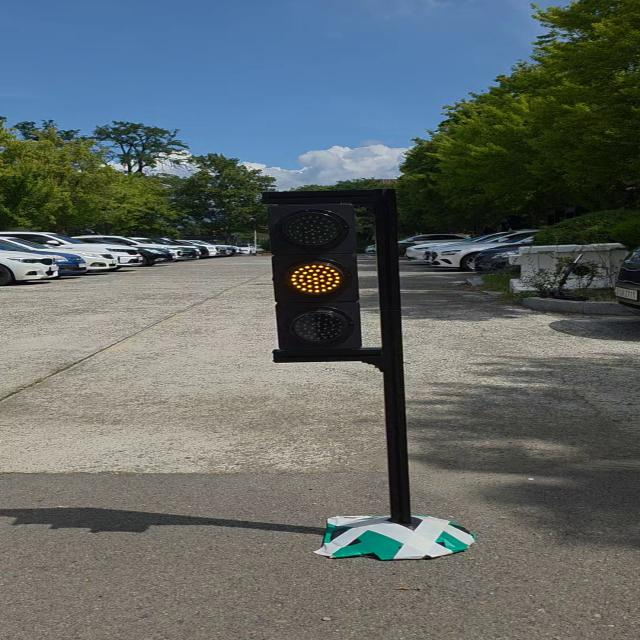yellow: (261, 197, 372, 361)
